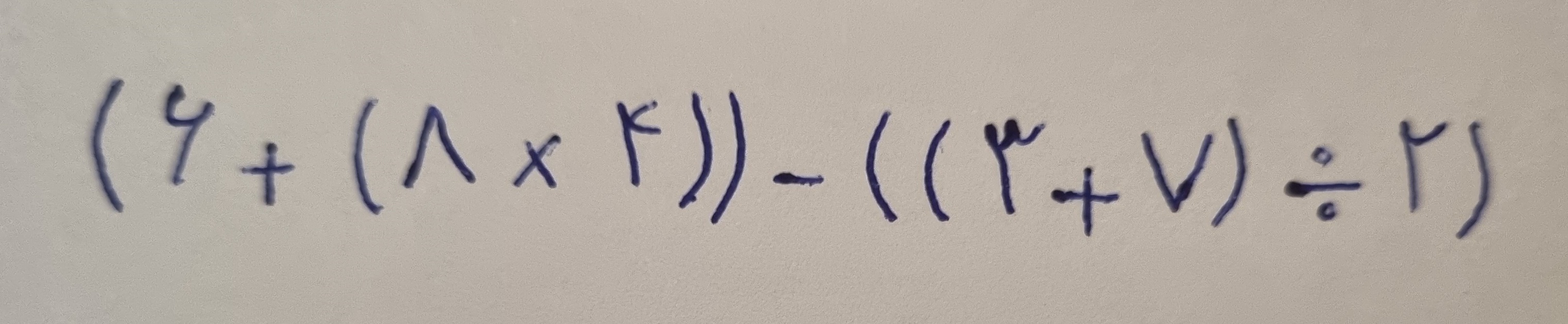character: (1139, 129, 1215, 214), (983, 117, 1047, 216), (400, 105, 477, 187), (1283, 146, 1359, 224), (87, 75, 127, 212), (162, 82, 214, 186), (1050, 166, 1121, 237), (1399, 117, 1449, 214), (709, 92, 745, 224), (613, 97, 663, 187), (348, 97, 385, 216), (1211, 114, 1250, 226), (677, 89, 714, 207), (864, 109, 900, 224), (1456, 120, 1491, 237), (238, 140, 297, 207), (923, 117, 953, 224), (513, 135, 563, 191), (771, 169, 824, 187)
